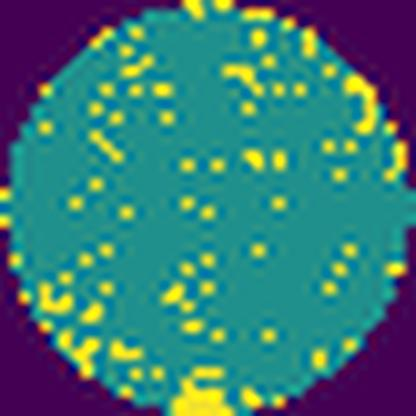Edge-Loc: (160, 363, 240, 416), (344, 72, 382, 134)
